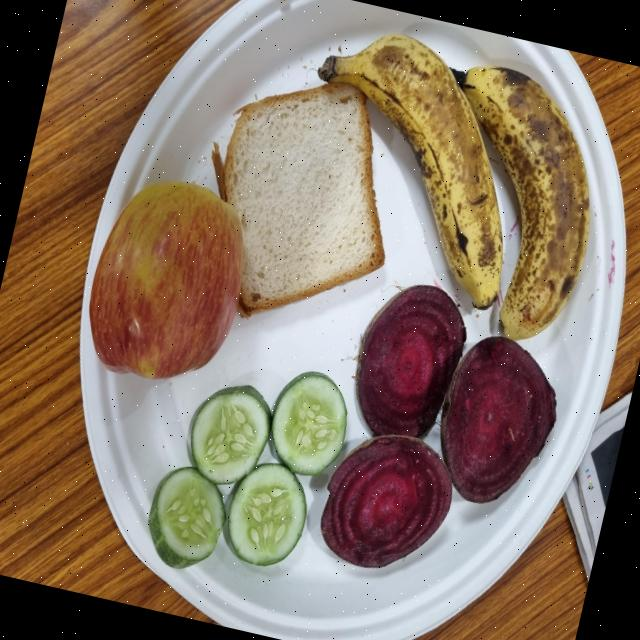apple: (84, 177, 243, 378)
banana: (318, 31, 506, 309), (458, 62, 589, 327)
cucumber: (187, 380, 277, 488), (268, 367, 349, 475), (224, 461, 306, 564), (147, 461, 225, 567)
